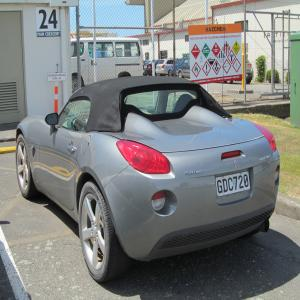Vehicle-registration-plate: (217, 171, 252, 200)
